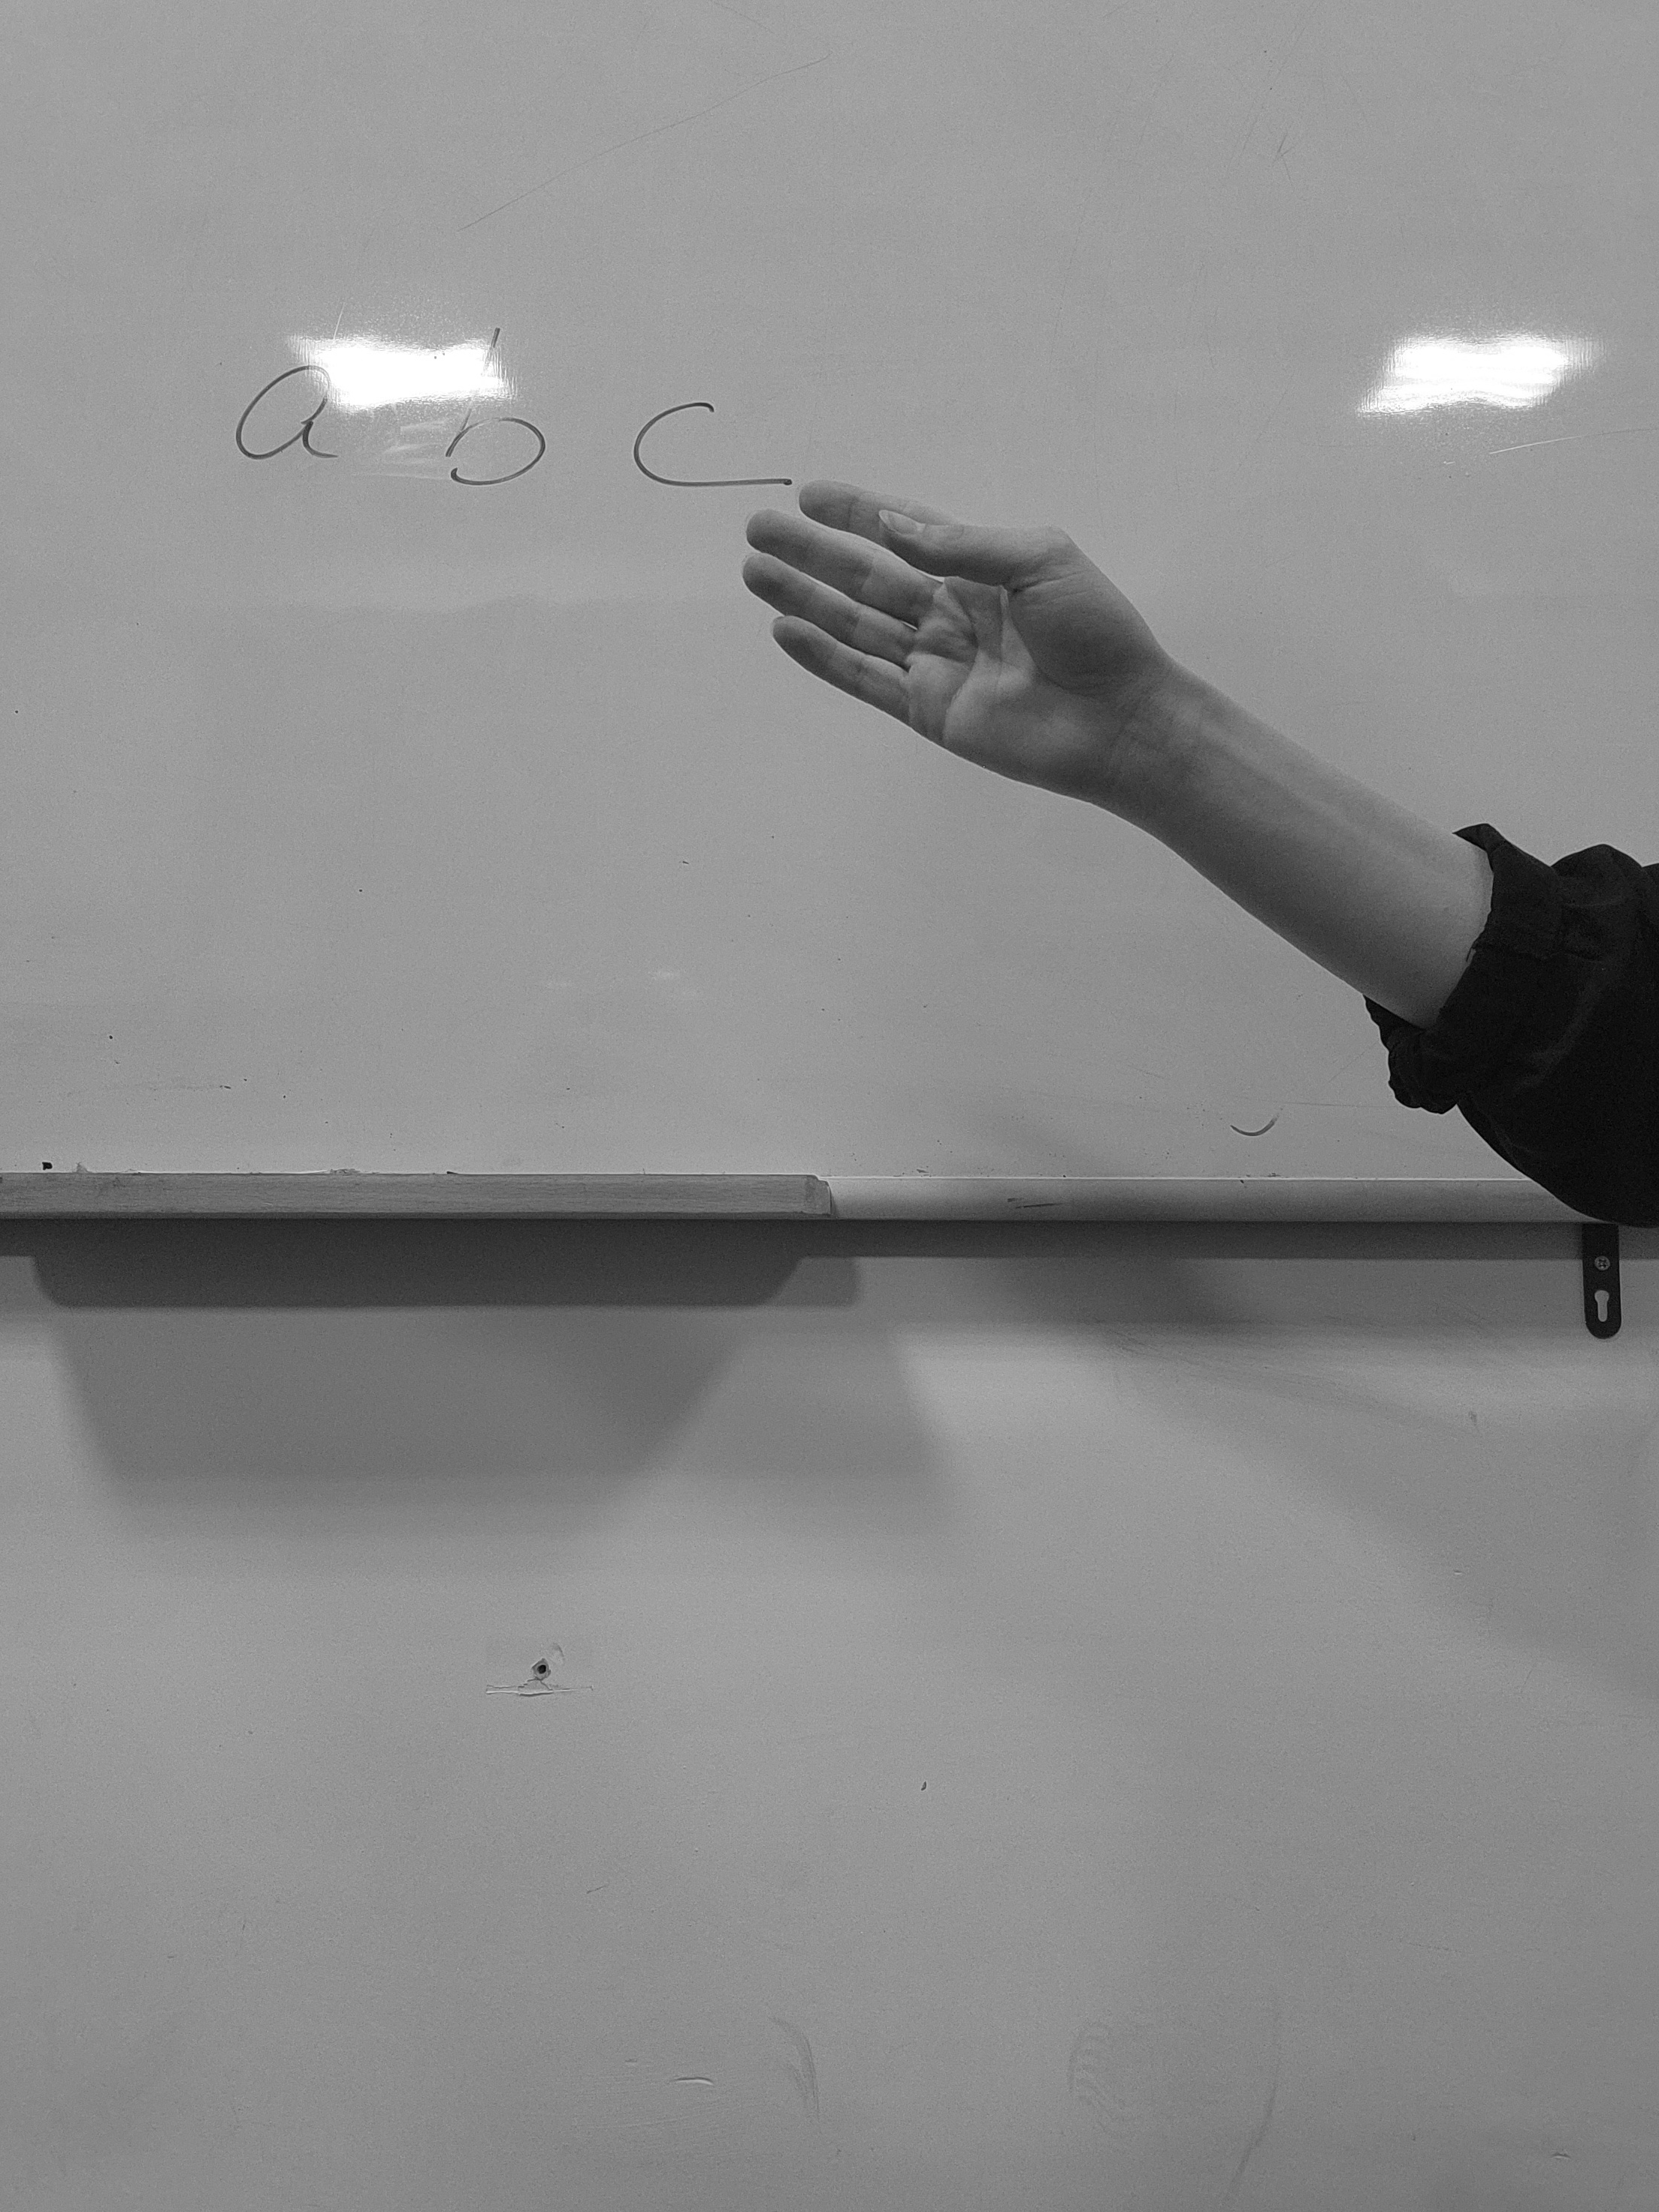pointing_gesture: (737, 477, 1180, 808)
